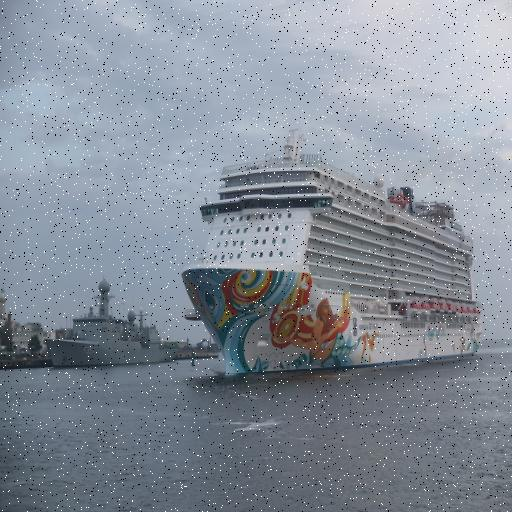cruises: (176, 134, 485, 378)
